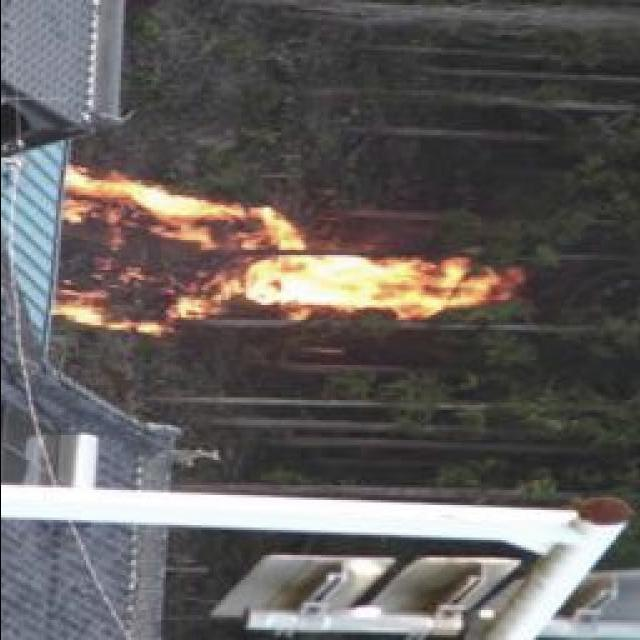Fire: (52, 242, 492, 334)
